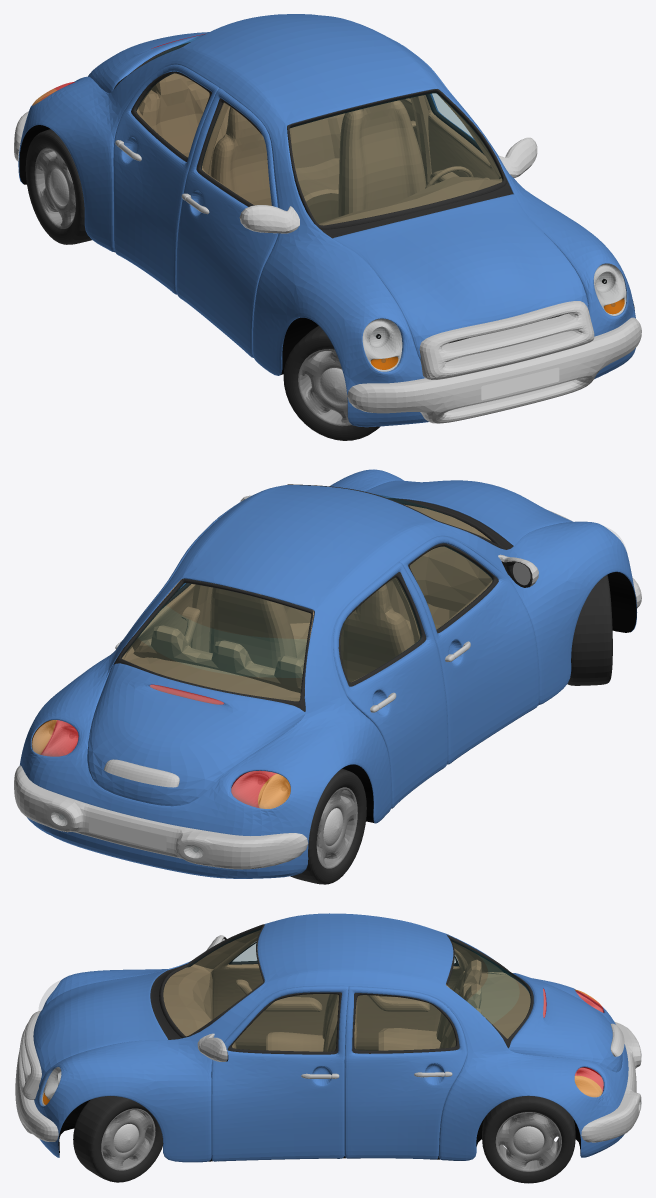
The model's file is concept-sedan-02.obj.
3 views of the same model, one above another, from view 1: azimuth 30°, elevation 25°; view 2: azimuth 150°, elevation 25°; view 3: azimuth 270°, elevation 25° (orthographic). The views are drawn at different scales.
Parts seen in each view (by area): view 1: Sedan02_body_Sedan02_body_PAINT_lt_blue, Sedan02_hood_Sedan02_hood_PAINT_lt_blue, Sedan02_windshield_Sedan02_windshield_GLASS_car_window, Sedan02_door_FR_Sedan02_door_FR_PAINT_lt_blue, Sedan02_interior_Sedan02_interior_CAR_interior_beige, Sedan02_door_RR_Sedan02_door_RR_PAINT_lt_blue, Sedan02_bumper_F_Sedan02_bumper_F_METAL_chrome, Sedan02_hood_Sedan02_hood_METAL_chrome, Sedan_02_seat_FL_Sedan02_seat_FL_CAR_interior_beige, Sedan02_door_FR_Sedan02_door_FR_GLASS_car_window, Sedan02_seat_FR_Sedan02_seat_FR_CAR_interior_beige, Sedan02_door_RR_Sedan02_door_RR_GLASS_car_window (+17 smaller); view 2: Sedan02_body_Sedan02_body_PAINT_lt_blue, Sedan02_trunk_Sedan02_trunk_PAINT_lt_blue, Sedan02_door_FR_Sedan02_door_FR_PAINT_lt_blue, Sedan02_interior_Sedan02_interior_CAR_interior_beige, Sedan02_door_RR_Sedan02_door_RR_PAINT_lt_blue, Sedan02_bumper_R_Sedan02_bumper_R_METAL_chrome, Sedan02_rear_window_Sedan02_rear_window_GLASS_car_window, Sedan02_rear_window_Sedan02_rear_window_GLASS_car_defroster, Sedan02_hood_Sedan02_hood_PAINT_lt_blue, Sedan02_door_RR_Sedan02_door_RR_GLASS_car_window, Sedan_02_seat_FL_Sedan02_seat_FL_CAR_interior_beige, Sedan02_seat_FR_Sedan02_seat_FR_CAR_interior_beige (+19 smaller); view 3: Sedan02_body_Sedan02_body_PAINT_lt_blue, Sedan02_door_FL_Sedan02_door_FL_PAINT_lt_blue, Sedan02_door_RL_Sedan02_door_RL_PAINT_lt_blue, Sedan02_interior_Sedan02_interior_CAR_interior_beige, Sedan02_hood_Sedan02_hood_PAINT_lt_blue, Sedan02_trunk_Sedan02_trunk_PAINT_lt_blue, Sedan02_windshield_Sedan02_windshield_GLASS_car_window, Sedan02_door_FR_Sedan02_door_FR_CAR_interior_beige, Sedan02_door_RL_Sedan02_door_RL_GLASS_car_window, Sedan02_door_FL_Sedan02_door_FL_GLASS_car_window, Sedan02_door_RR_Sedan02_door_RR_CAR_interior_beige, Sedan02_RL_Sedan02_tire_RL_METAL_aluminum (+24 smaller).
Part boxes in pixels (x1,y1,x2,y2): Sedan02_body_Sedan02_body_PAINT_lt_blue: [18, 14, 635, 427]; Sedan02_hood_Sedan02_hood_PAINT_lt_blue: [332, 194, 588, 360]; Sedan02_windshield_Sedan02_windshield_GLASS_car_window: [290, 93, 501, 224]; Sedan02_door_FR_Sedan02_door_FR_PAINT_lt_blue: [176, 88, 278, 357]; Sedan02_interior_Sedan02_interior_CAR_interior_beige: [139, 73, 502, 225]; Sedan02_door_RR_Sedan02_door_RR_PAINT_lt_blue: [113, 64, 219, 294]; Sedan02_bumper_F_Sedan02_bumper_F_METAL_chrome: [347, 317, 641, 423]; Sedan02_hood_Sedan02_hood_METAL_chrome: [419, 301, 594, 379]; Sedan_02_seat_FL_Sedan02_seat_FL_CAR_interior_beige: [337, 100, 426, 217]; Sedan02_door_FR_Sedan02_door_FR_GLASS_car_window: [201, 103, 271, 205]; Sedan02_seat_FR_Sedan02_seat_FR_CAR_interior_beige: [211, 107, 271, 205]; Sedan02_door_RR_Sedan02_door_RR_GLASS_car_window: [137, 74, 208, 157]; Sedan02_body_Sedan02_body_PAINT_lt_blue: [19, 469, 637, 878]; Sedan02_trunk_Sedan02_trunk_PAINT_lt_blue: [87, 663, 305, 806]; Sedan02_door_FR_Sedan02_door_FR_PAINT_lt_blue: [399, 536, 539, 764]; Sedan02_interior_Sedan02_interior_CAR_interior_beige: [122, 504, 491, 771]; Sedan02_door_RR_Sedan02_door_RR_PAINT_lt_blue: [333, 562, 447, 808]; Sedan02_bumper_R_Sedan02_bumper_R_METAL_chrome: [14, 765, 307, 869]; Sedan02_rear_window_Sedan02_rear_window_GLASS_car_window: [122, 583, 310, 700]; Sedan02_rear_window_Sedan02_rear_window_GLASS_car_defroster: [137, 605, 306, 677]; Sedan02_hood_Sedan02_hood_PAINT_lt_blue: [365, 480, 573, 545]; Sedan02_door_RR_Sedan02_door_RR_GLASS_car_window: [341, 578, 421, 681]; Sedan_02_seat_FL_Sedan02_seat_FL_CAR_interior_beige: [209, 587, 306, 668]; Sedan02_seat_FR_Sedan02_seat_FR_CAR_interior_beige: [340, 584, 414, 682]; Sedan02_body_Sedan02_body_PAINT_lt_blue: [34, 913, 628, 1162]; Sedan02_door_FL_Sedan02_door_FL_PAINT_lt_blue: [211, 986, 348, 1161]; Sedan02_door_RL_Sedan02_door_RL_PAINT_lt_blue: [344, 986, 467, 1159]; Sedan02_interior_Sedan02_interior_CAR_interior_beige: [163, 930, 530, 1050]; Sedan02_hood_Sedan02_hood_PAINT_lt_blue: [33, 969, 167, 1087]; Sedan02_trunk_Sedan02_trunk_PAINT_lt_blue: [509, 973, 622, 1072]; Sedan02_windshield_Sedan02_windshield_GLASS_car_window: [163, 928, 262, 1035]; Sedan02_door_FR_Sedan02_door_FR_CAR_interior_beige: [212, 937, 329, 1050]; Sedan02_door_RL_Sedan02_door_RL_GLASS_car_window: [355, 995, 455, 1050]; Sedan02_door_FL_Sedan02_door_FL_GLASS_car_window: [232, 994, 338, 1050]; Sedan02_door_RR_Sedan02_door_RR_CAR_interior_beige: [356, 949, 466, 1050]; Sedan02_RL_Sedan02_tire_RL_METAL_aluminum: [495, 1112, 561, 1171].
Bounding box in the file's own units: 14.35 × 10.22 × 29.95.
